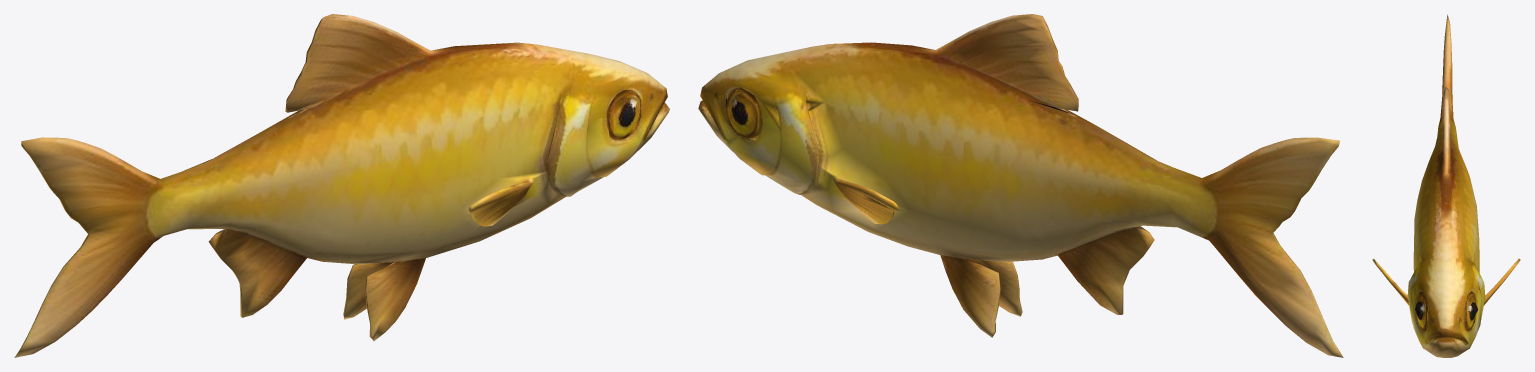
File: fish-golden.glb
3 views of the same model, side by side, from view 1: azimuth 30°, elevation 25°; view 2: azimuth 150°, elevation 25°; view 3: azimuth 270°, elevation 25° (orthographic). The views are drawn at different scales.
Visible parts, largest first — view 1: node_0.001; view 2: node_0.001; view 3: node_0.001.
Part boxes in pixels (bbox=[...]): node_0.001: bbox=[14, 14, 669, 357]; node_0.001: bbox=[698, 14, 1343, 357]; node_0.001: bbox=[1372, 14, 1520, 357].
Size of the model in its own units: 1.3 by 0.6175 by 0.3385.
Materials: 1 (1 with a texture image).
